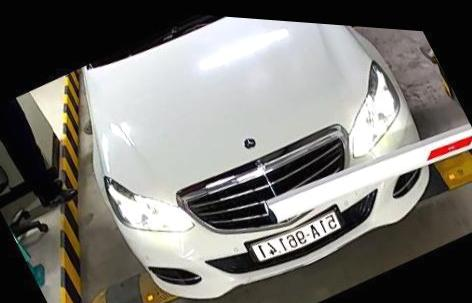License_Plate: (245, 199, 357, 279)
